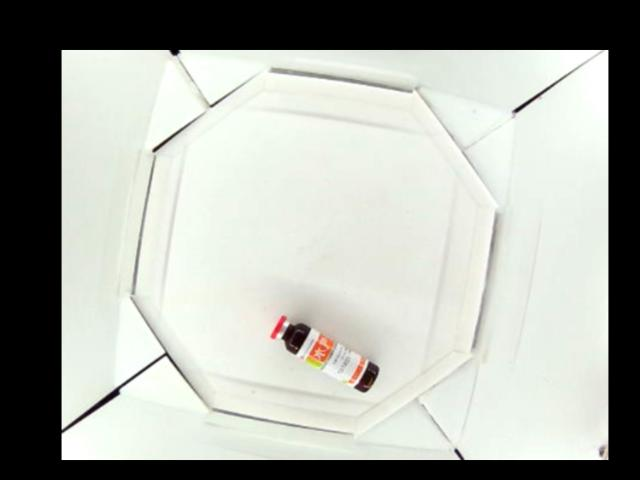Medicine: (270, 315, 377, 394)
